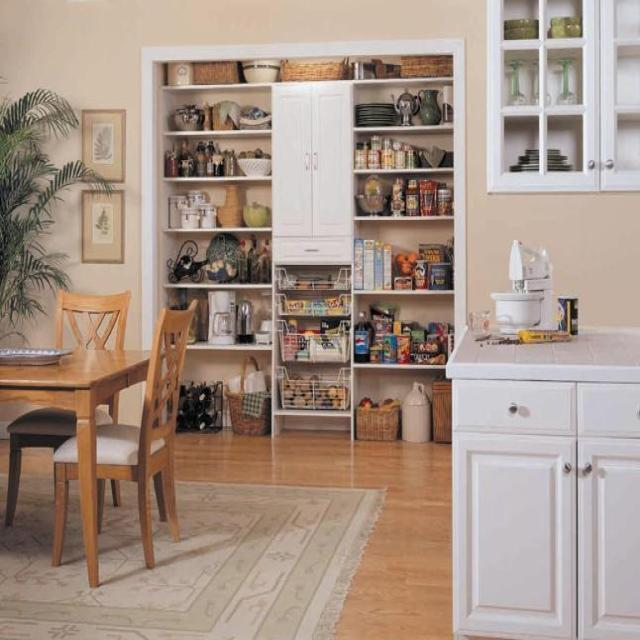chair: (52, 299, 198, 570)
cupboard: (445, 328, 639, 638), (485, 0, 639, 194)
door: (270, 81, 352, 238)
plants: (0, 76, 115, 348)
rugs: (0, 473, 387, 638)
shelves: (156, 56, 458, 439)
table: (0, 347, 158, 585)
